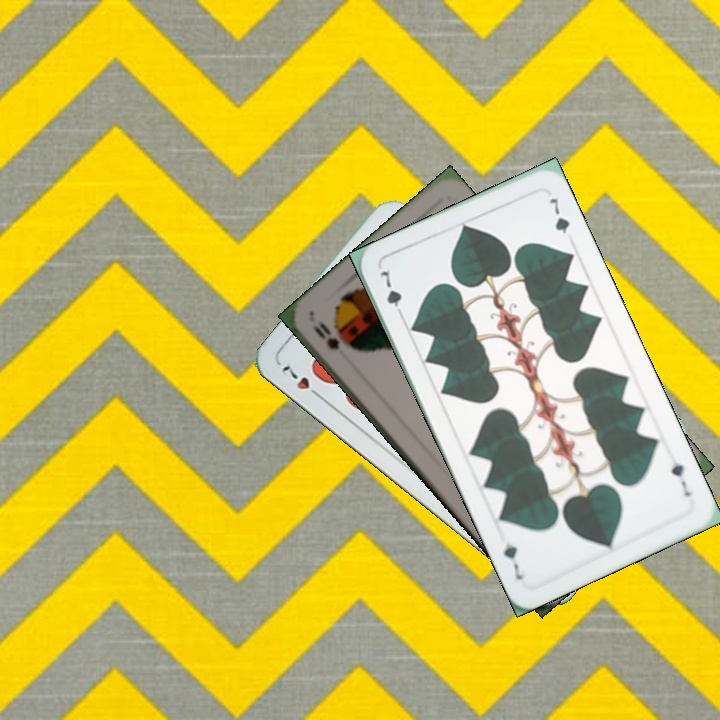G7: (376, 266, 407, 322), (666, 451, 694, 499)
H7: (277, 361, 326, 403)
SO: (309, 316, 342, 352)
